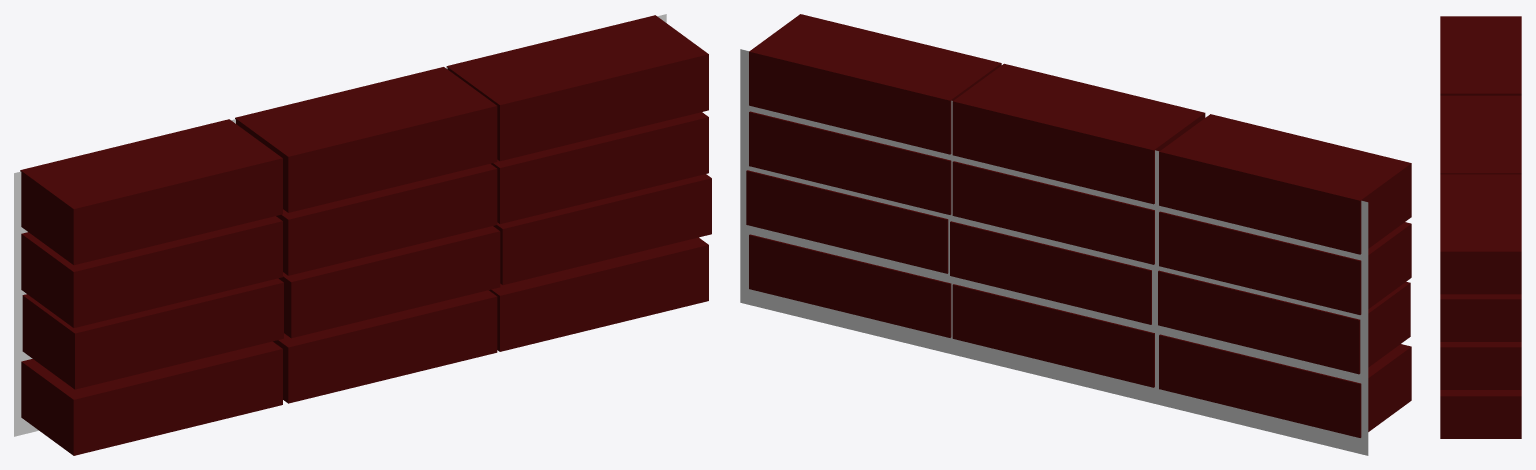
The model's file is brickwall.FBX.
3 views of the same model, side by side, from view 1: azimuth 30°, elevation 25°; view 2: azimuth 150°, elevation 25°; view 3: azimuth 270°, elevation 25° (orthographic). The views are drawn at different scales.
Parts seen in each view (by area): view 1: Box013, Box005, Box009, Box010, Box012, Box011, Box006, Box002, Box003, Box004, Box008, Box007 (+1 smaller); view 2: Plane001, Box013, Box005, Box009, Box010, Box012, Box011, Box004, Box002, Box006, Box007, Box008 (+1 smaller); view 3: Box009, Box005, Box013, Box006, Box007, Box008.
Boxes of the visible parts, x1,y1,x2,y2 form: Box013: (20,119,282,265); Box005: (235,67,497,212); Box009: (446,15,708,161); Box010: (21,341,282,455); Box012: (21,216,282,327); Box011: (22,278,283,389); Box006: (489,237,708,351); Box002: (273,290,497,403); Box003: (278,226,500,338); Box004: (276,163,497,275); Box008: (491,112,708,223); Box007: (493,174,711,284); Plane001: (740,49,1368,455); Box013: (1159,114,1411,254); Box005: (952,63,1205,204); Box009: (749,14,1001,154); Box010: (1159,334,1411,437); Box012: (1159,211,1411,314); Box011: (1158,270,1410,374); Box004: (952,161,1154,264); Box002: (952,284,1154,387); Box006: (749,234,951,337); Box007: (746,170,948,273); Box008: (749,111,951,214); Box009: (1440,174,1521,294); Box005: (1440,95,1521,174); Box013: (1440,16,1521,95); Box006: (1440,390,1521,438); Box007: (1440,342,1521,389); Box008: (1440,294,1521,341).
Bounding box in the file's own units: 50.18 × 19.41 × 7.12.
